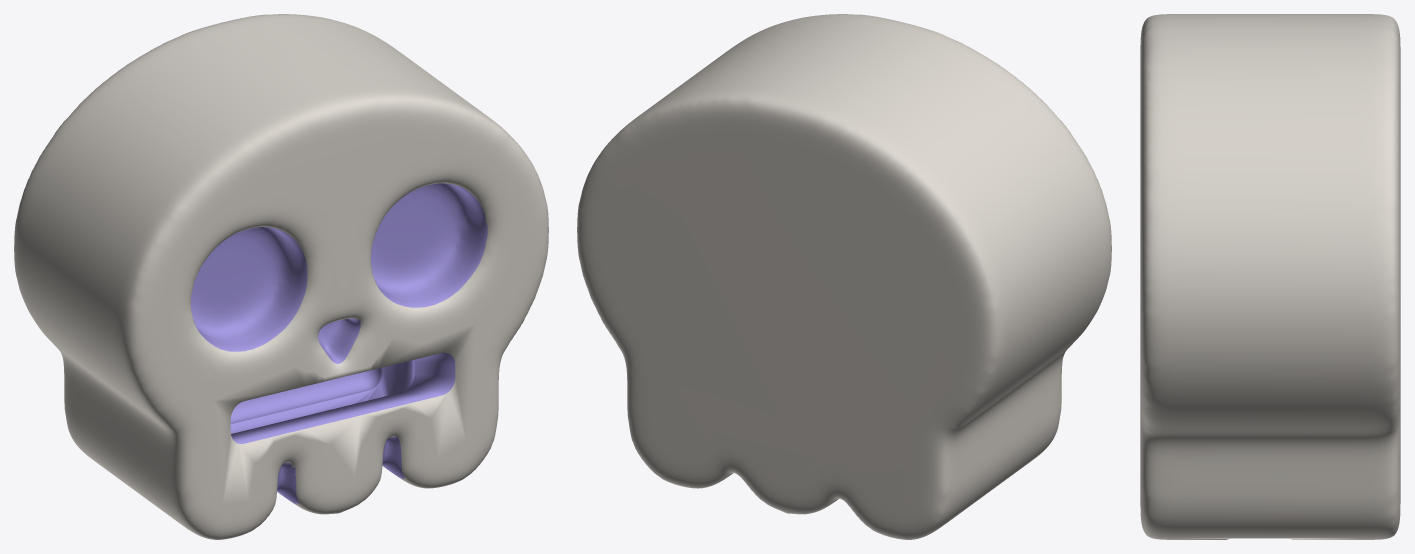
The model's file is skulldropper.glb.
3 views of the same model, side by side, from view 1: azimuth 30°, elevation 25°; view 2: azimuth 150°, elevation 25°; view 3: azimuth 270°, elevation 25° (orthographic). The views are drawn at different scales.
Visible parts, largest first — view 1: skulldropper; view 2: skulldropper; view 3: skulldropper.
Part boxes in pixels (<box>): skulldropper: <box>14,14,548,539</box>; skulldropper: <box>577,14,1111,539</box>; skulldropper: <box>1140,14,1400,539</box>.
Bounding box in the file's own units: 1.89 × 1.76 × 0.95.
